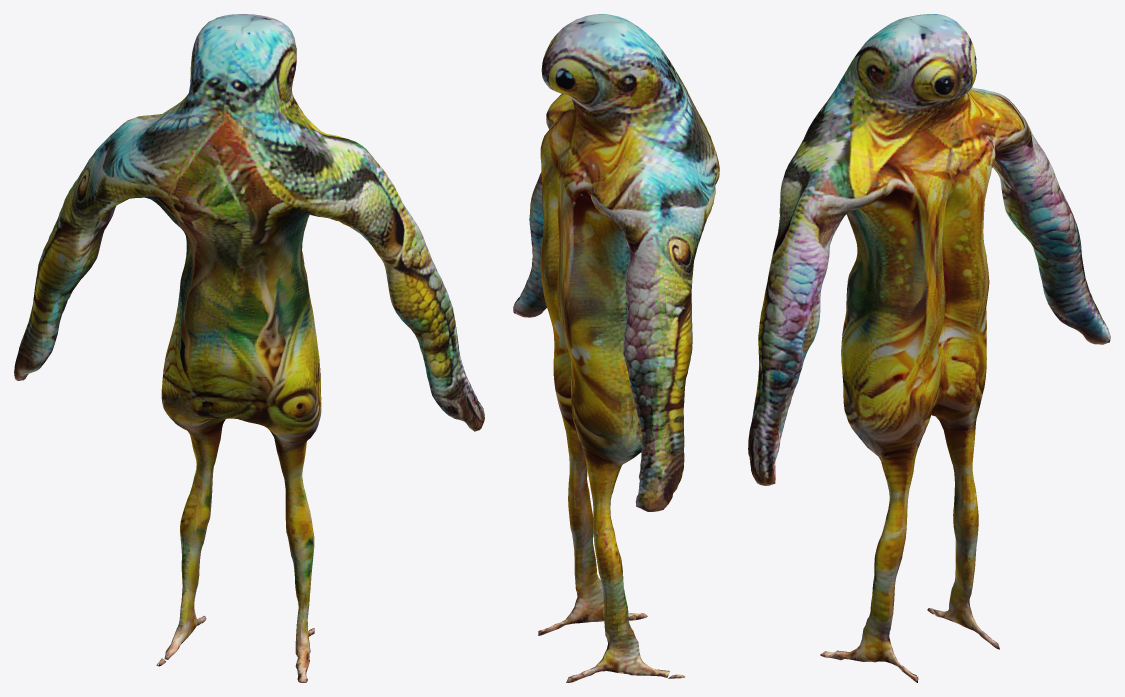
The picture shows the model from 3 angles, left to right: view 1: azimuth 30°, elevation 25°; view 2: azimuth 150°, elevation 25°; view 3: azimuth 270°, elevation 25°; orthographic projection.
Bounding box in the file's own units: 0.5249 × 1 × 0.523.
1 material, 1 textured.
